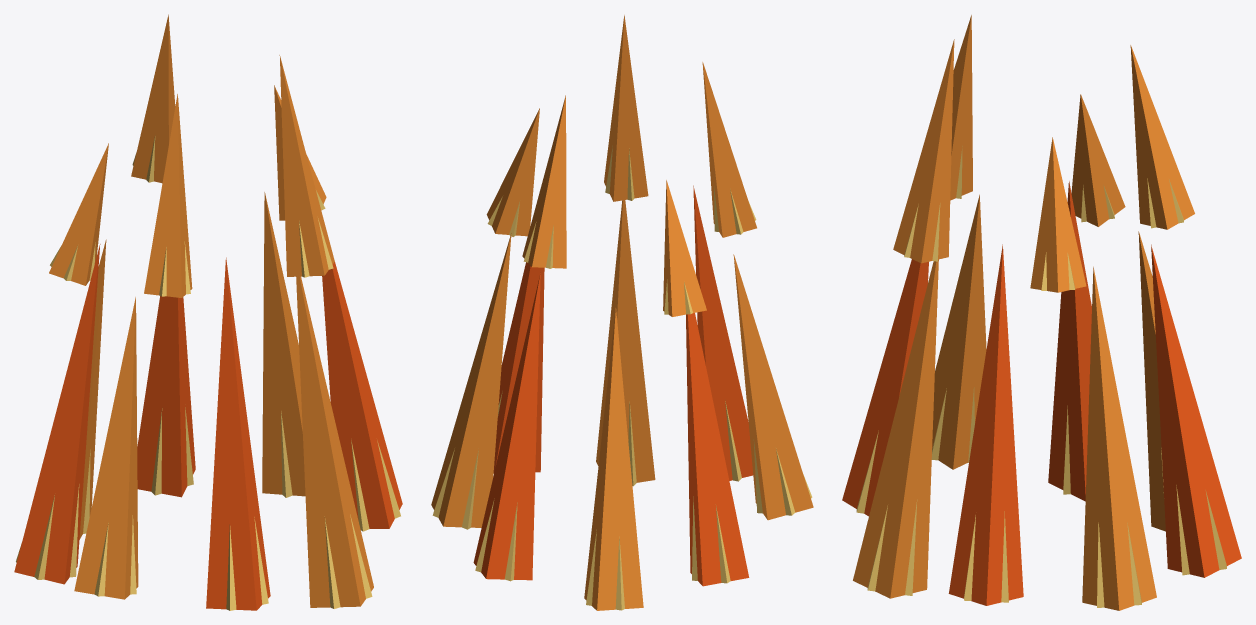
Rendered from pyro_burn.glb.
3 renders of one model, left to right at view 1: azimuth 30°, elevation 25°; view 2: azimuth 150°, elevation 25°; view 3: azimuth 270°, elevation 25°, orthographic. The views are drawn at different scales.
Parts seen in each view (by area): view 1: pyro_burn; view 2: pyro_burn; view 3: pyro_burn.
Boxes of the visible parts, x1,y1,x2,y2 form: pyro_burn: (14,14,402,610); pyro_burn: (431,15,813,610); pyro_burn: (842,15,1241,610).
Bounding box in the file's own units: 0.8562 × 1.27 × 0.8527.
Materials: 1 (1 with a texture image).
